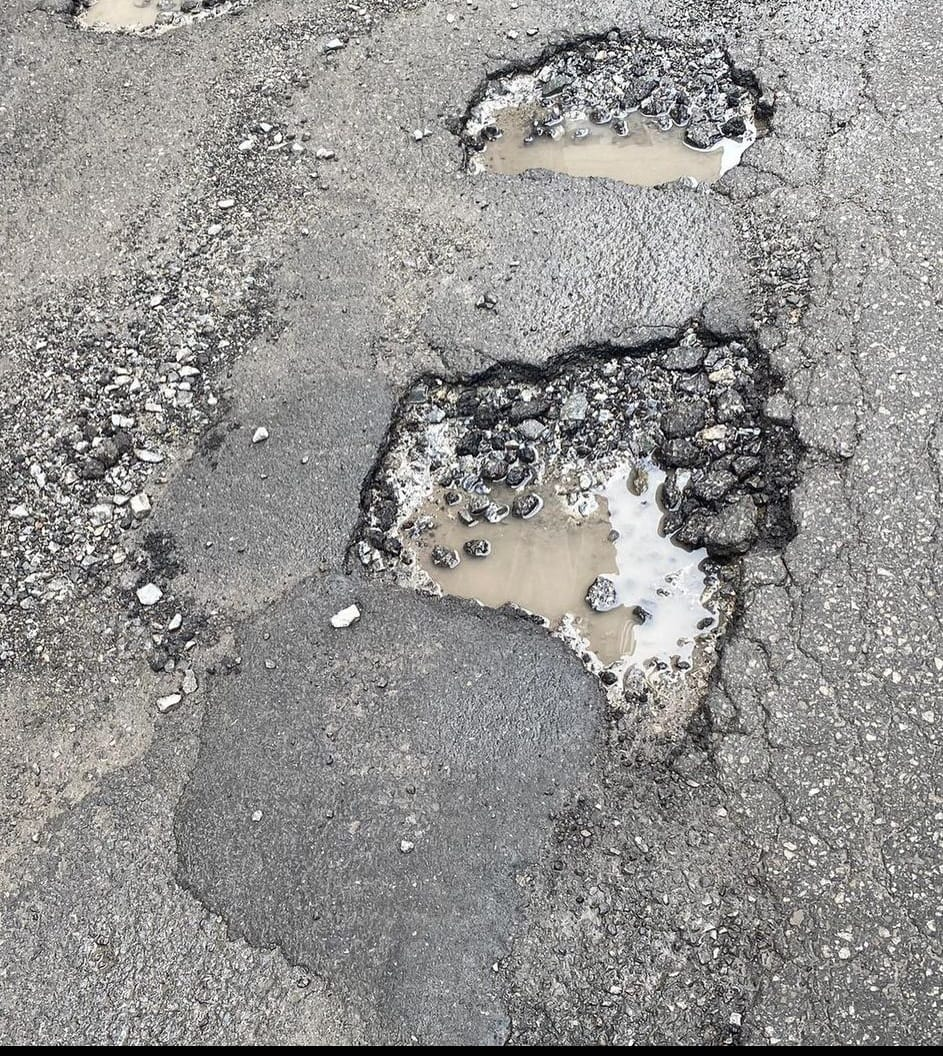Pothole: (330, 268, 817, 771), (394, 13, 785, 236)
